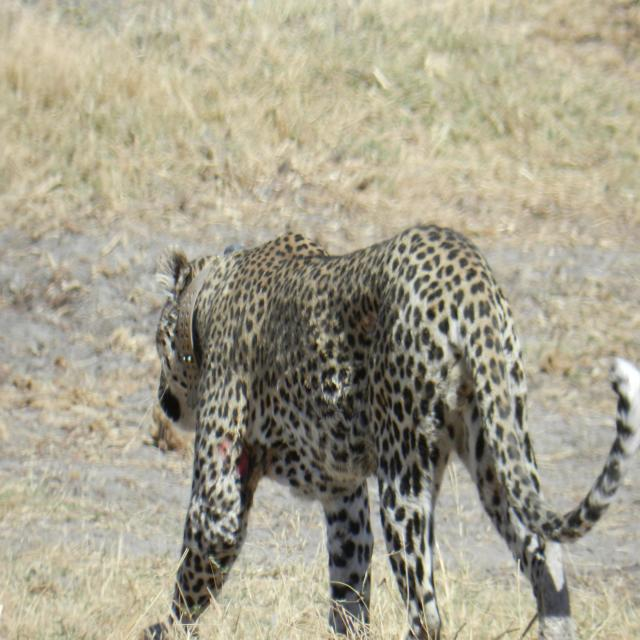Leopard: (127, 226, 639, 640)
